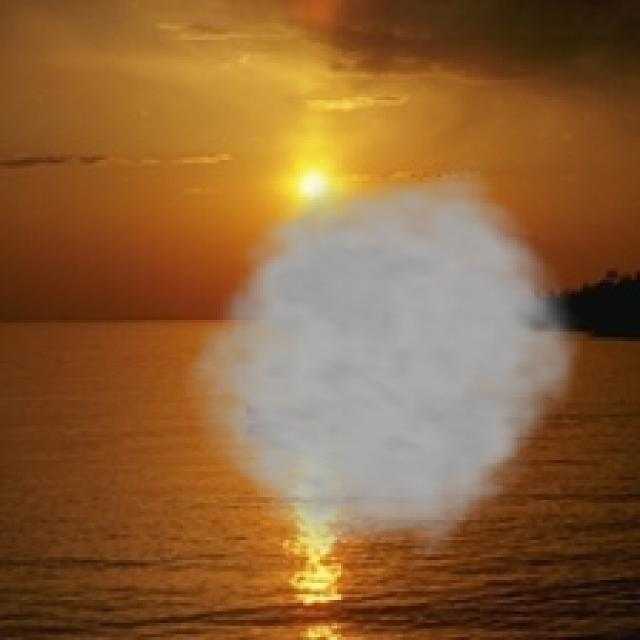smoke: (174, 154, 592, 557)
